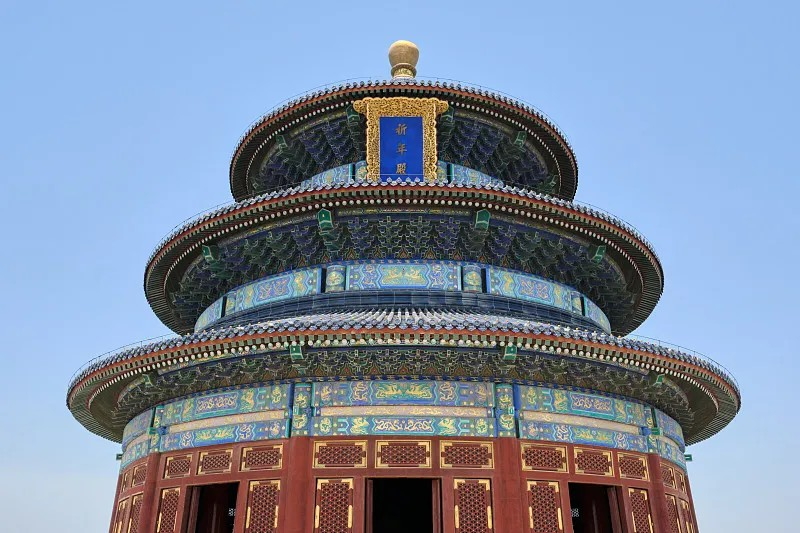Heaven: (65, 38, 742, 533)
